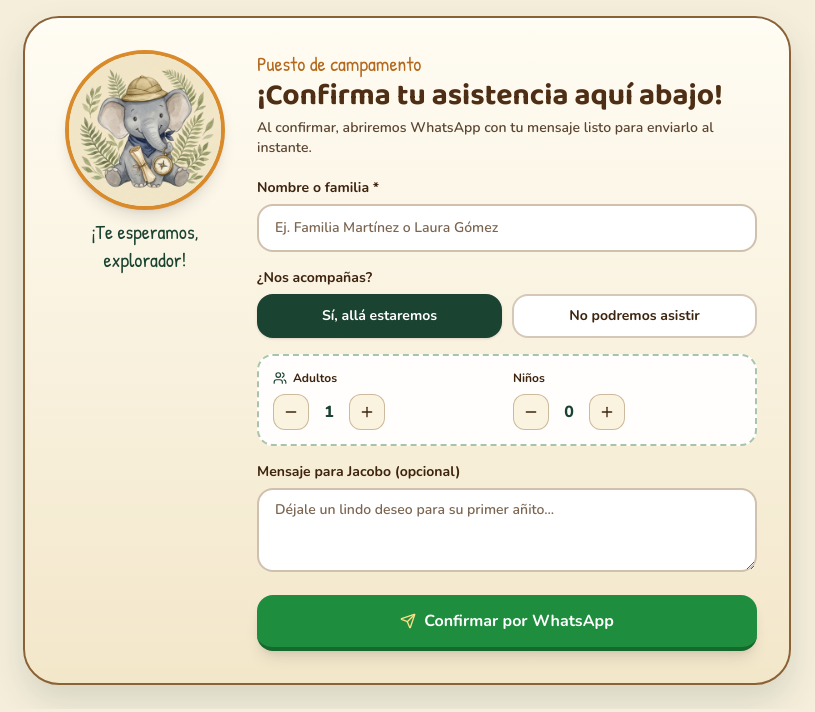
it: RsvpSection › shows a validation error when submitting an empty guest name
This screenshot has width=815, height=712.
What coordinates should you click on to do the following:
click the button "Confirmar por WhatsApp"
I would click on:
 (507, 623)
Its box is x1=257 y1=595 x2=757 y2=651.
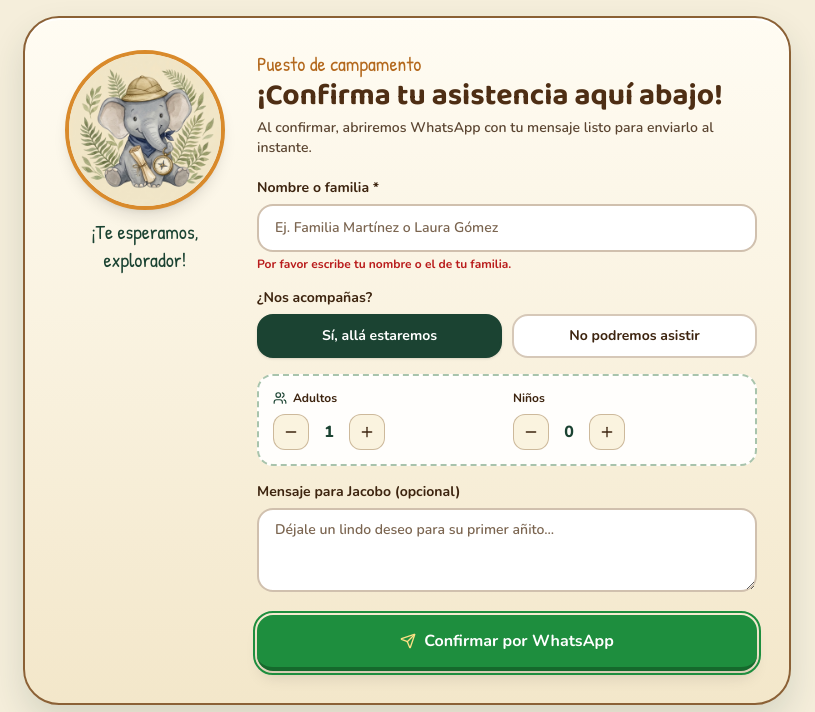
Now the text "Por favor escribe tu nombre o el de tu familia." is shown, box x1=257 y1=256 x2=511 y2=272
